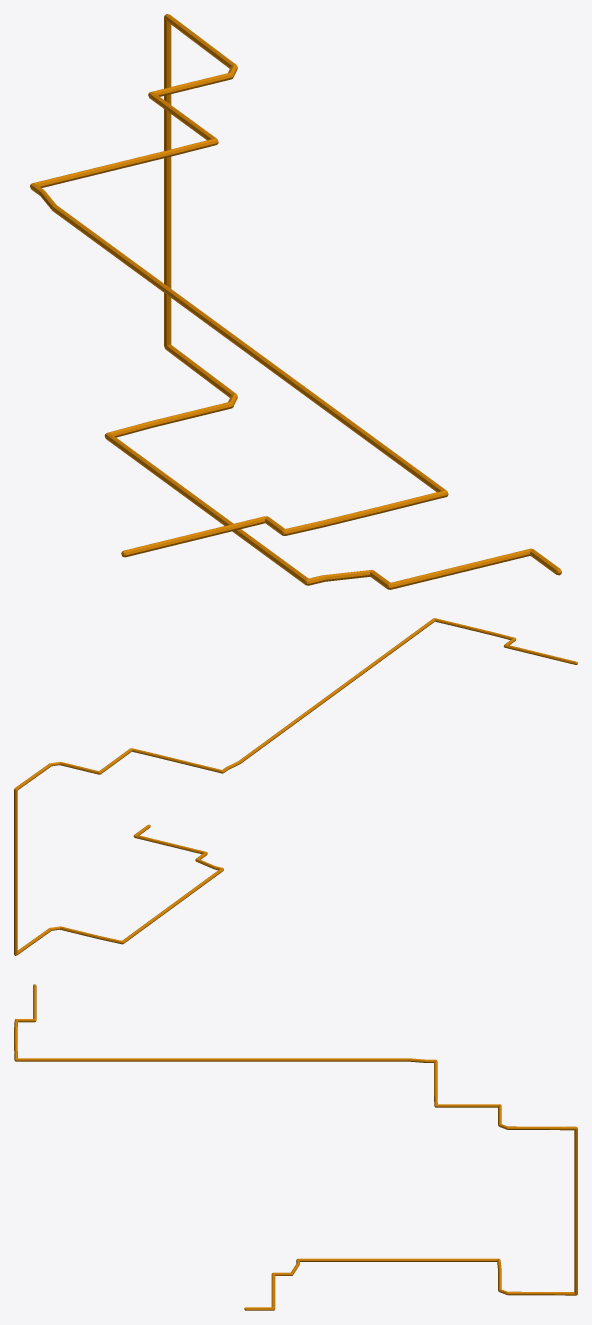
3 views of the same model, one above another, from view 1: azimuth 30°, elevation 25°; view 2: azimuth 150°, elevation 25°; view 3: azimuth 270°, elevation 25° (orthographic). The views are drawn at different scales.
Size of the model in its own units: 2068 by 1020 by 3092.
